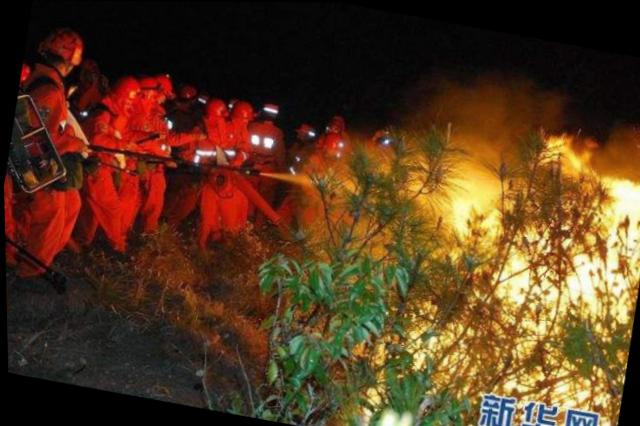fire: (363, 108, 639, 423)
